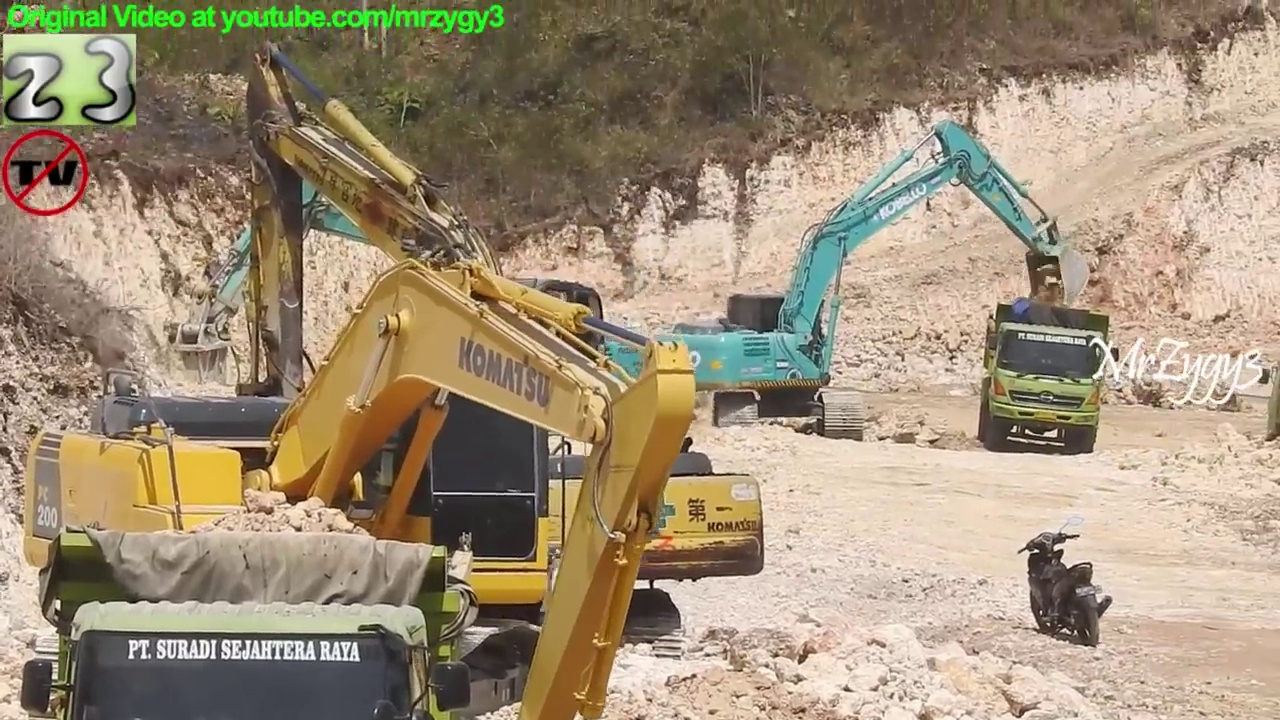excavator: (215, 33, 777, 671), (15, 238, 703, 720), (646, 116, 1099, 450), (157, 152, 667, 447)
truck: (972, 298, 1126, 459)
worker: (12, 520, 480, 720)
